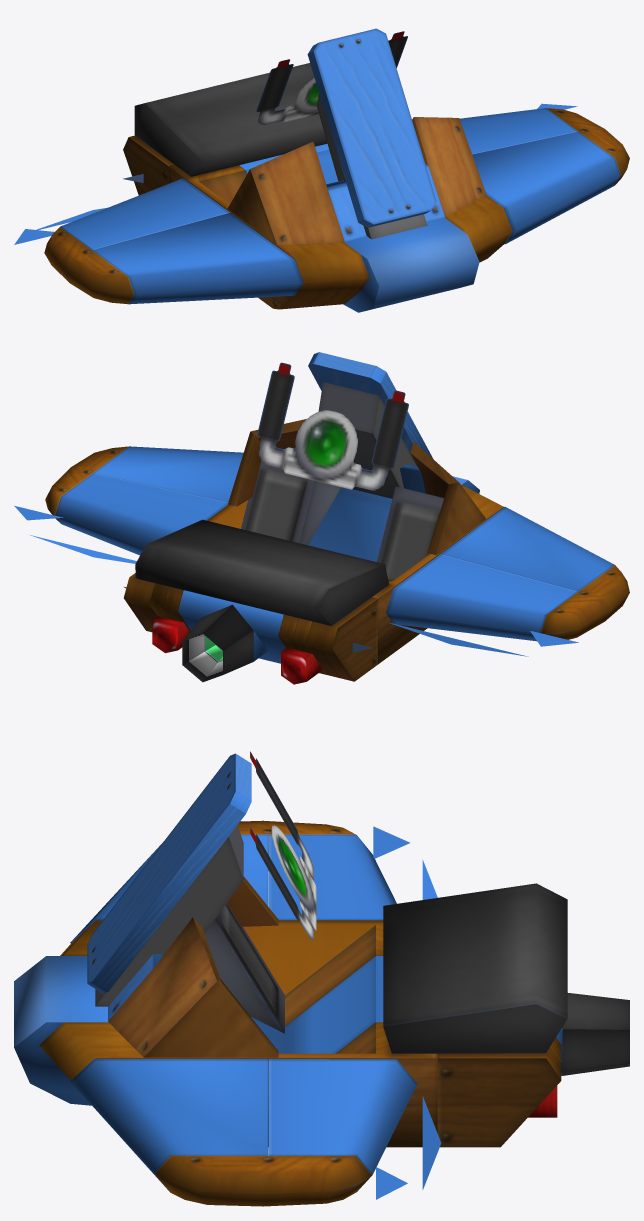
The model's file is practice00.glb.
3 renders of one model, top to bottom at view 1: azimuth 30°, elevation 25°; view 2: azimuth 150°, elevation 25°; view 3: azimuth 270°, elevation 25°, orthographic. The views are drawn at different scales.
Parts seen in each view (by area): view 1: practice00; view 2: practice00; view 3: practice00.
Part boxes in pixels (x1,y1,x2,y2): practice00: (14, 28, 629, 312); practice00: (14, 352, 629, 684); practice00: (14, 751, 629, 1206).
Size of the model in its own units: 2.06 by 0.8639 by 1.44.
Materials: 4 (4 with a texture image).
